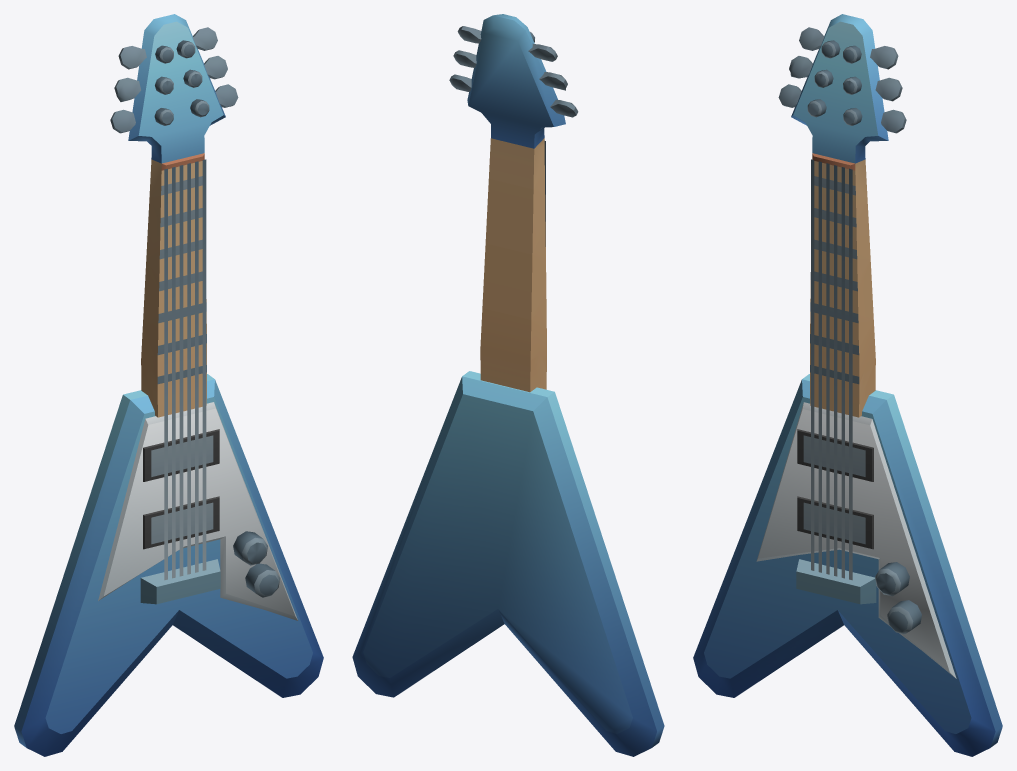
The model's file is guitar_A.fbx.
The picture shows the model from 3 angles, left to right: view 1: azimuth 30°, elevation 25°; view 2: azimuth 150°, elevation 25°; view 3: azimuth 330°, elevation 25°; orthographic projection.
Parts seen in each view (by area): view 1: guitar_A; view 2: guitar_A; view 3: guitar_A.
Part boxes in pixels (box(x1,y1,x2,y2)): guitar_A: box(14, 14, 323, 756); guitar_A: box(352, 14, 664, 756); guitar_A: box(693, 14, 1002, 756).
Bounding box in the file's own units: 0.8477 × 1.88 × 0.1704.
